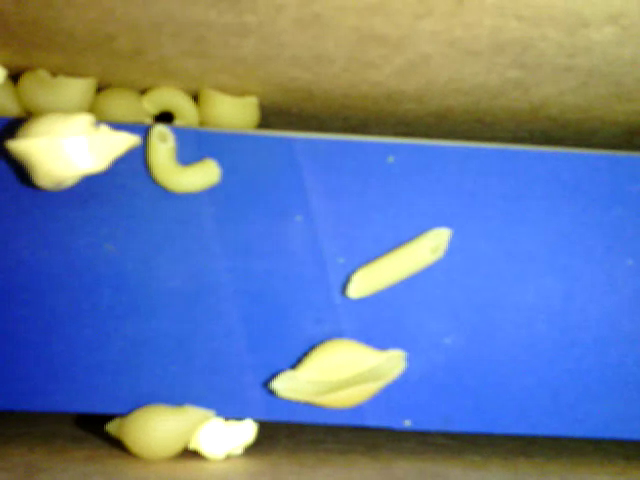elbow: (145, 124, 222, 194), (142, 84, 198, 126)
penne: (344, 224, 452, 299)
shell: (268, 337, 407, 407), (104, 403, 217, 460), (13, 67, 95, 113), (195, 84, 260, 130), (91, 87, 151, 124)
tortellini: (7, 109, 142, 192)
